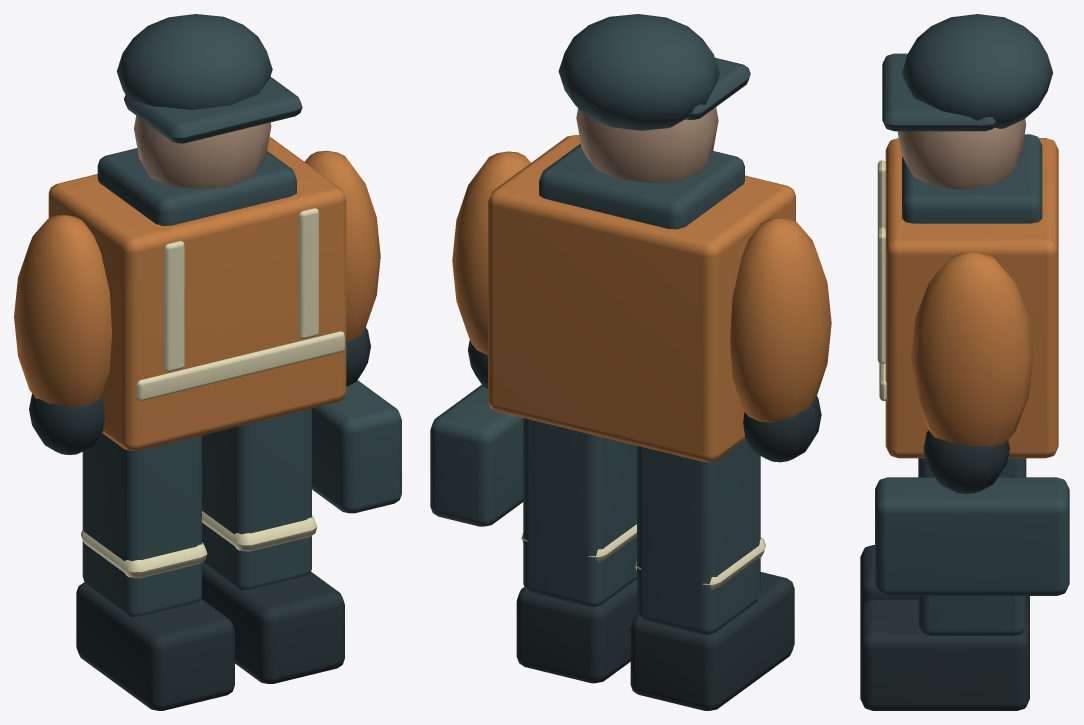
File: technician.glb
3 renders of one model, left to right at view 1: azimuth 30°, elevation 25°; view 2: azimuth 150°, elevation 25°; view 3: azimuth 270°, elevation 25°, orthographic. The views are drawn at different scales.
Parts seen in each view (by area): view 1: technician_orange, technician_cloth, leg_left_cloth, leg_right_cloth, arm_left_orange, leg_left_boots, leg_right_boots, technician_reflective, arm_right_cloth, technician_skin, arm_right_orange, arm_left_boots (+3 smaller); view 2: technician_orange, technician_cloth, leg_left_cloth, leg_right_cloth, arm_left_orange, leg_left_boots, arm_right_cloth, leg_right_boots, technician_skin, arm_right_orange, arm_left_boots, leg_left_reflective; view 3: technician_orange, technician_cloth, arm_right_cloth, arm_right_orange, leg_right_boots, technician_skin, leg_right_cloth, arm_right_boots, technician_reflective, leg_left_boots.
Part boxes in pixels (bbox=[...]): technician_orange: bbox=[48, 136, 346, 450]; technician_cloth: bbox=[97, 14, 302, 225]; leg_left_cloth: bbox=[82, 433, 201, 617]; leg_right_cloth: bbox=[202, 408, 311, 590]; arm_left_orange: bbox=[14, 215, 111, 406]; leg_left_boots: bbox=[76, 582, 234, 710]; leg_right_boots: bbox=[201, 564, 344, 683]; technician_reflective: bbox=[136, 208, 344, 400]; arm_right_cloth: bbox=[312, 380, 401, 513]; technician_skin: bbox=[134, 116, 271, 189]; arm_right_orange: bbox=[304, 150, 380, 341]; arm_left_boots: bbox=[29, 394, 104, 454]; technician_orange: bbox=[488, 135, 795, 462]; technician_cloth: bbox=[539, 14, 750, 229]; leg_left_cloth: bbox=[637, 439, 760, 634]; leg_right_cloth: bbox=[523, 418, 636, 607]; arm_left_orange: bbox=[730, 217, 831, 422]; leg_left_boots: bbox=[630, 572, 794, 710]; arm_right_cloth: bbox=[430, 384, 523, 526]; leg_right_boots: bbox=[516, 579, 637, 683]; technician_skin: bbox=[576, 107, 718, 182]; arm_right_orange: bbox=[452, 151, 530, 355]; arm_left_boots: bbox=[743, 396, 821, 462]; leg_left_reflective: bbox=[635, 537, 765, 590]; technician_orange: bbox=[885, 138, 1058, 458]; technician_cloth: bbox=[882, 14, 1052, 223]; arm_right_cloth: bbox=[875, 477, 1069, 595]; arm_right_orange: bbox=[911, 252, 1033, 447]; leg_right_boots: bbox=[860, 599, 1029, 710]; technician_skin: bbox=[897, 119, 1026, 189]; leg_right_cloth: bbox=[918, 458, 1026, 635]; arm_right_boots: bbox=[923, 430, 1009, 493]; technician_reflective: bbox=[877, 160, 886, 400]; leg_left_boots: bbox=[860, 545, 1029, 611].
Size of the model in its own units: 1.14 by 1.97 by 0.5801.
